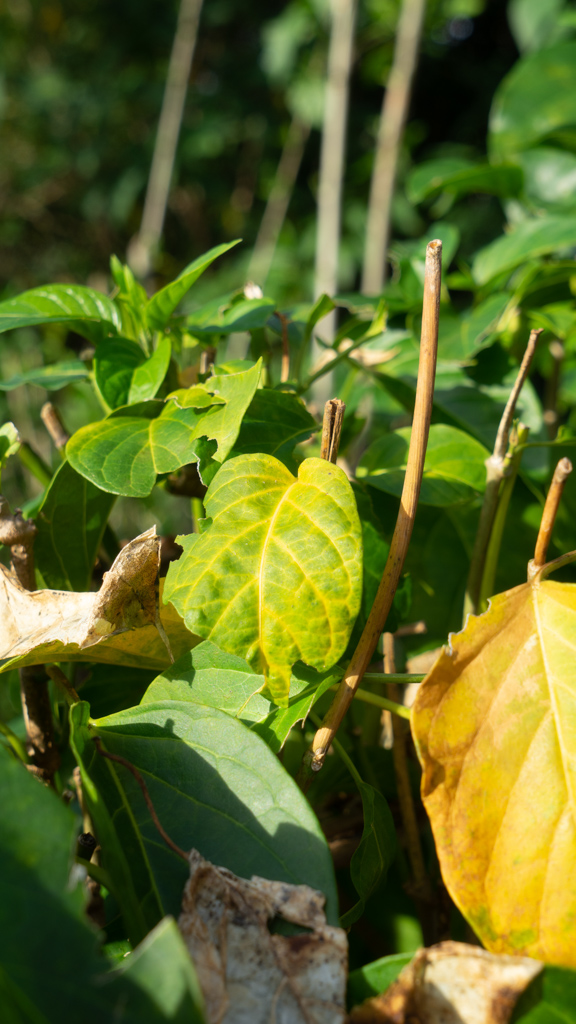Pepper yellow leaf: (408, 580, 572, 977), (159, 454, 376, 722)
